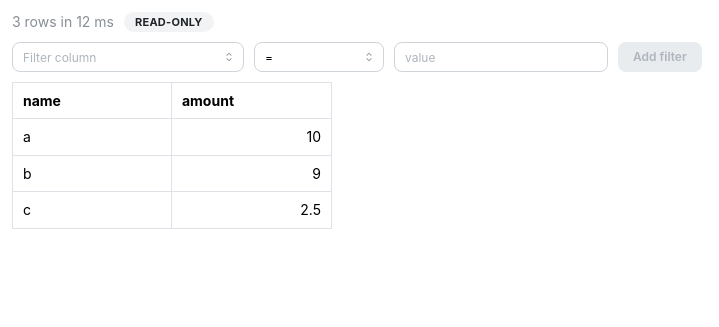
Test: ResultGrid › does not check the value of a contains filter, which matches text
Step 1. Click the dropdown labelled "Filter column" → (128, 57), box [12,42,244,72]
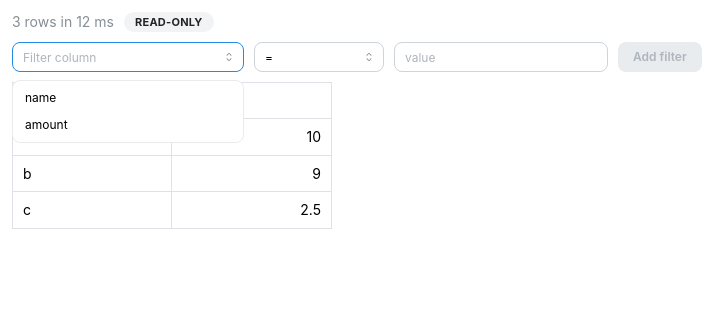
Step 2. Click the option "amount" → (46, 124), box [25,117,68,132]
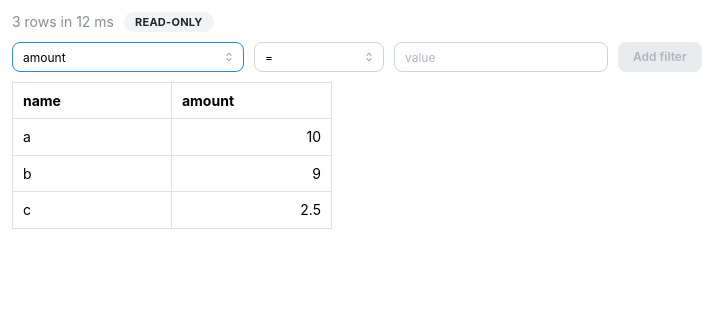
Step 3. Click the dropdown named "Filter operator" → (319, 57), box [254,42,384,72]
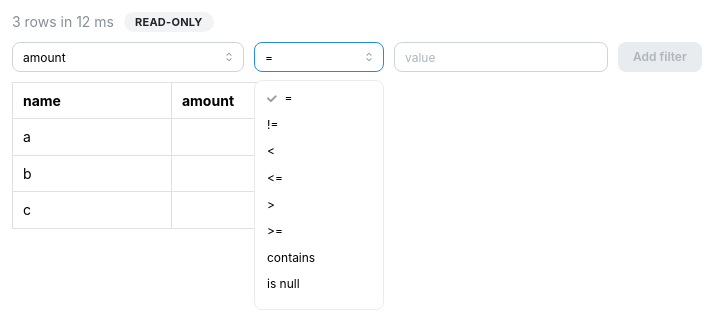
Step 4. Click the option "contains" → (291, 257), box [267,250,315,265]
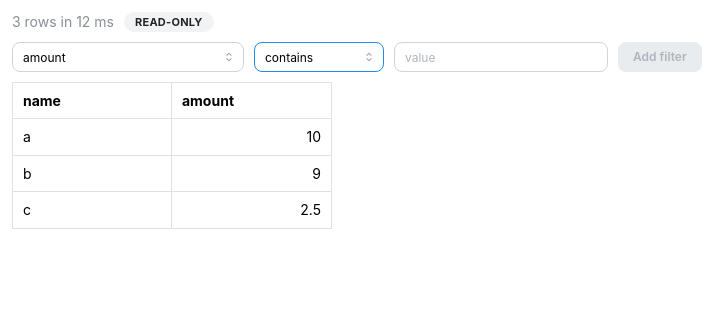
Step 5. Type ".5" into the field named "Filter value" → (501, 57), box [394,42,608,72]
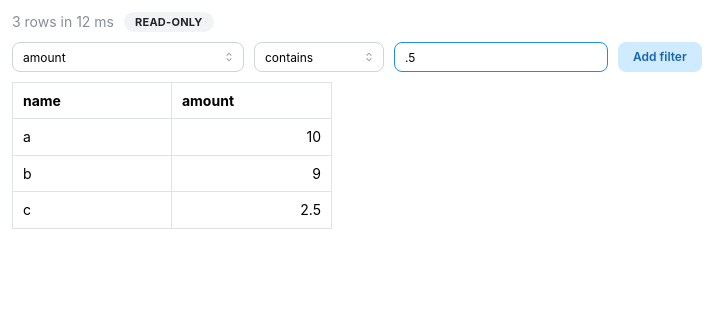
Now the button "Add filter" is enabled, box [618,42,702,72]
